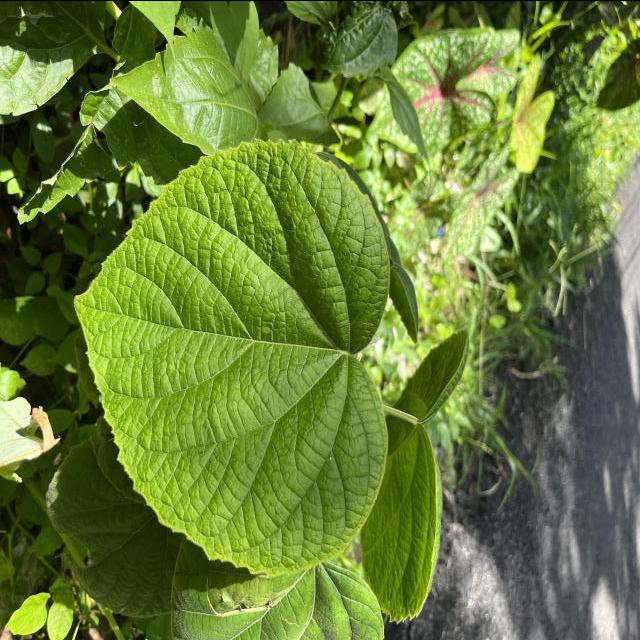Clerodendrum infortunatum: (72, 135, 393, 576)
